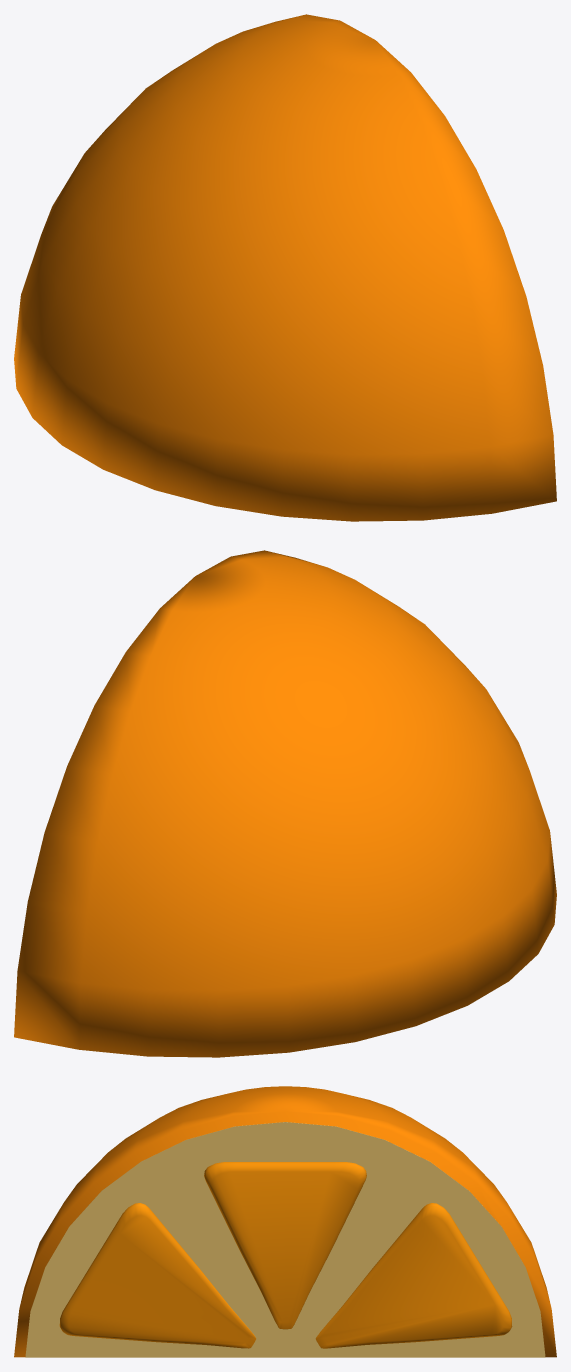
The model's file is orange.fbx.
3 renders of one model, top to bottom at view 1: azimuth 30°, elevation 25°; view 2: azimuth 150°, elevation 25°; view 3: azimuth 270°, elevation 25°, orthographic. The views are drawn at different scales.
Visible parts, largest first — view 1: Sphere; view 2: Sphere; view 3: Sphere.001, Sphere, Cone.002, Cone.001, Cone.
Boxes of the visible parts, x1=… form: Sphere: x1=14, y1=14, x2=556, y2=521; Sphere: x1=14, y1=550, x2=556, y2=1057; Sphere.001: x1=25, y1=1122, x2=545, y2=1357; Sphere: x1=14, y1=1086, x2=556, y2=1357; Cone.002: x1=315, y1=1203, x2=512, y2=1348; Cone.001: x1=59, y1=1203, x2=256, y2=1348; Cone: x1=204, y1=1162, x2=366, y2=1329.
Bounding box in the file's own units: 167 × 167 × 323.
